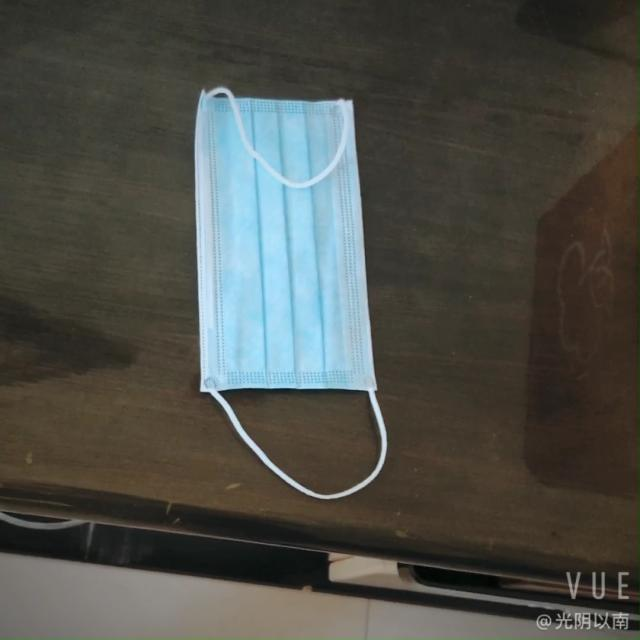non-organic waste: (188, 80, 382, 411)
